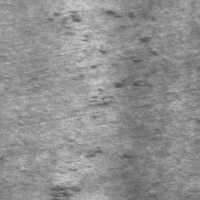rolled-in_scale: (42, 7, 160, 110), (48, 142, 132, 200)
